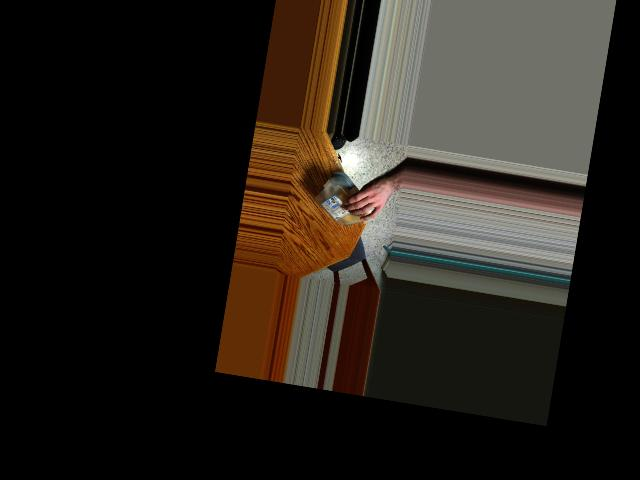cheese: (310, 170, 384, 233)
